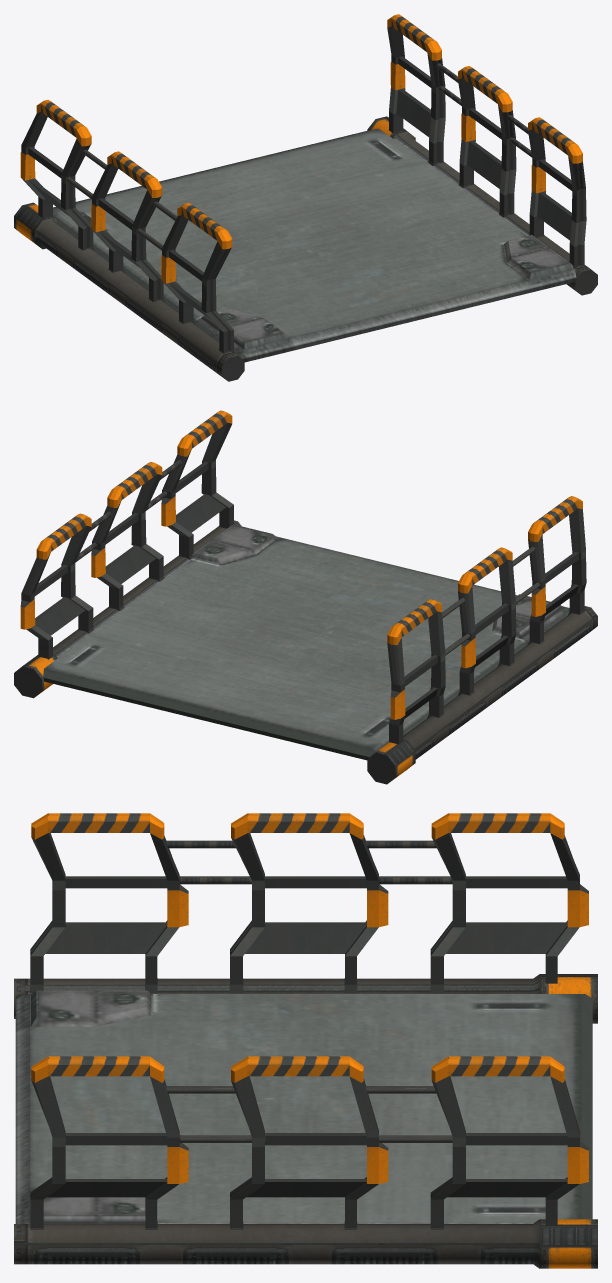
File: Bridge_a_4x4.FBX
The picture shows the model from 3 angles, top to bottom: view 1: azimuth 30°, elevation 25°; view 2: azimuth 150°, elevation 25°; view 3: azimuth 270°, elevation 25°; orthographic projection. The views are drawn at different scales.
Visible parts, largest first — view 1: Bridge_a_4x4; view 2: Bridge_a_4x4; view 3: Bridge_a_4x4.
Boxes of the visible parts, <box> form: Bridge_a_4x4: <box>14,14,597,381</box>; Bridge_a_4x4: <box>14,410,597,784</box>; Bridge_a_4x4: <box>14,813,597,1268</box>.
Bounding box in the file's own units: 4.34 × 4.05 × 1.58.
